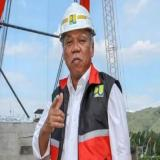Helmet: (59, 1, 96, 40)
Vest: (51, 67, 122, 160)
